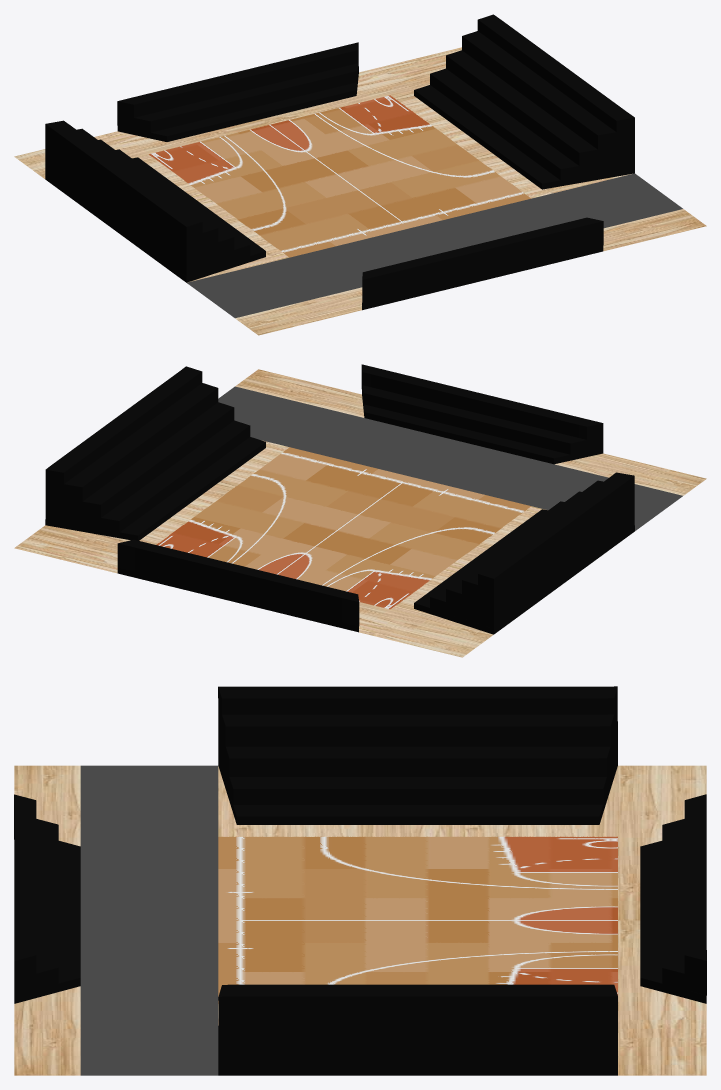
The model's file is basketballCourtNew.fbx.
The picture shows the model from 3 angles, top to bottom: view 1: azimuth 30°, elevation 25°; view 2: azimuth 150°, elevation 25°; view 3: azimuth 270°, elevation 25°; orthographic projection. The views are drawn at different scales.
Visible parts, largest first — view 1: polySurface1, polySurface2; view 2: polySurface1, polySurface2; view 3: polySurface1, polySurface2.
Boxes of the visible parts, x1,y1,x2,y2 form: polySurface1: [14, 14, 706, 335]; polySurface2: [149, 95, 530, 257]; polySurface1: [14, 364, 706, 657]; polySurface2: [156, 447, 530, 609]; polySurface1: [14, 686, 706, 1075]; polySurface2: [218, 836, 617, 1003].
Size of the model in its own units: 44.09 by 5.23 by 41.61.
Materials: 4 (2 with a texture image).
